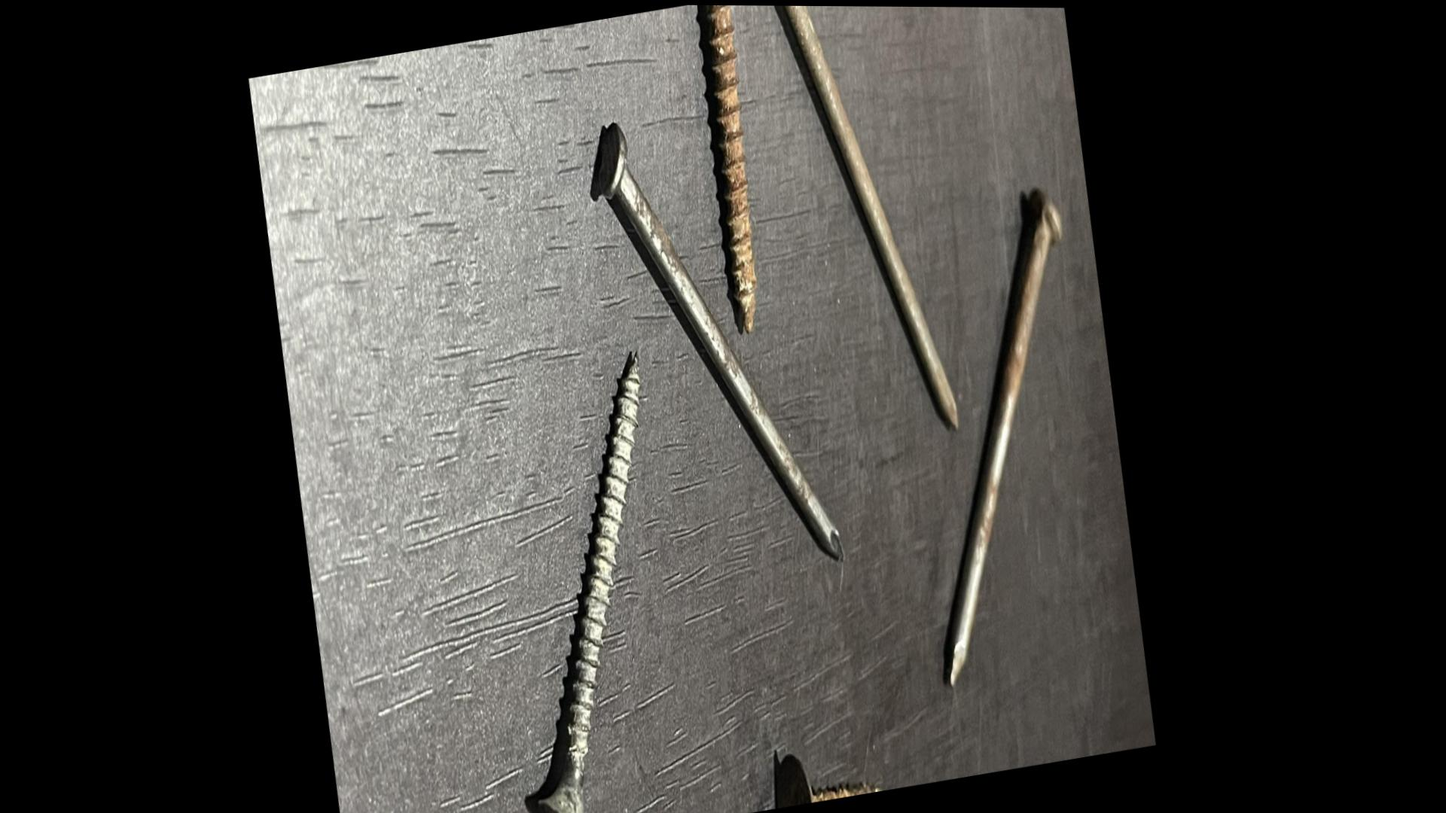nail: (547, 61, 893, 665), (848, 129, 1164, 721), (735, 4, 1004, 513)
screw: (454, 323, 735, 813), (664, 4, 817, 347), (753, 703, 905, 811)
